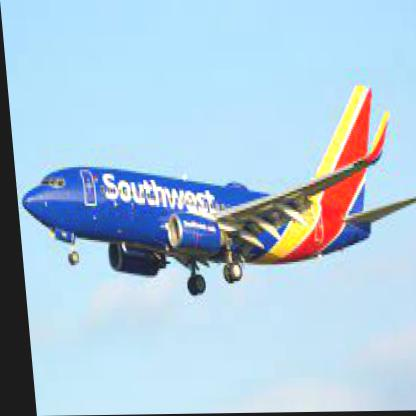Aircraft: (10, 85, 415, 297)
